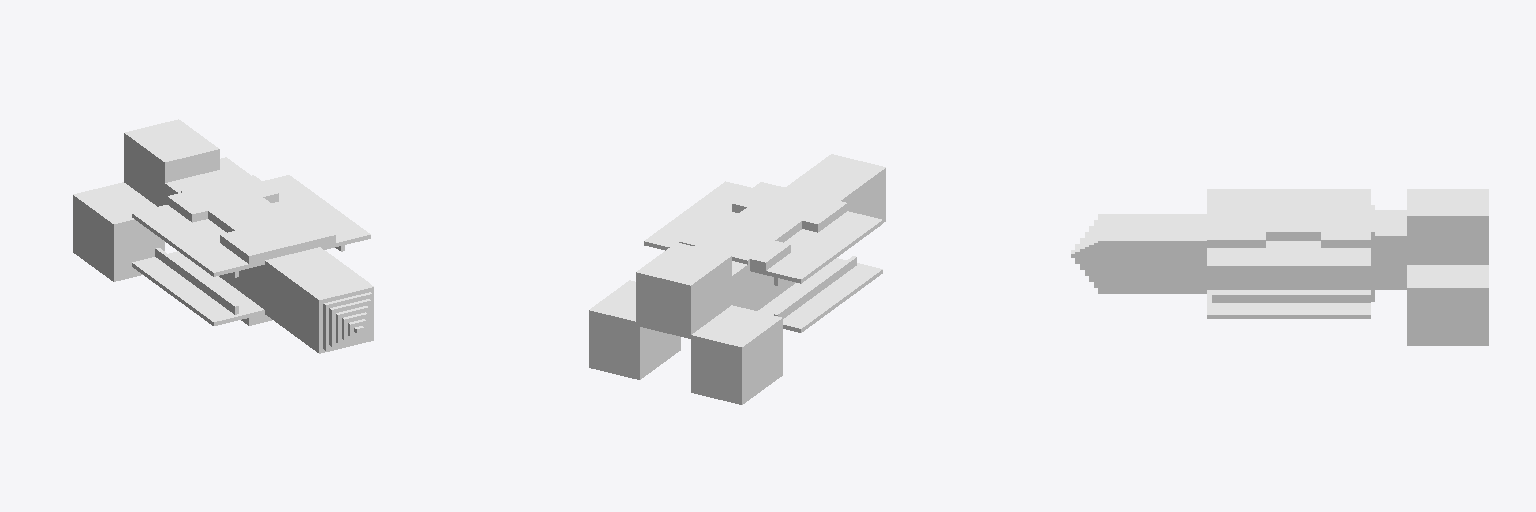
Rendered from AirBus.obj.
The picture shows the model from 3 angles: view 1: azimuth 30°, elevation 25°; view 2: azimuth 150°, elevation 25°; view 3: azimuth 270°, elevation 25°; orthographic projection.
Visible parts, largest first — view 1: object 1; view 2: object 1; view 3: object 1.
Boxes of the visible parts, <box> form: object 1: <box>73,119,373,353</box>; object 1: <box>589,154,885,404</box>; object 1: <box>1071,189,1488,345</box>.
Bounding box in the file's own units: 4 × 2.6 × 9.2.